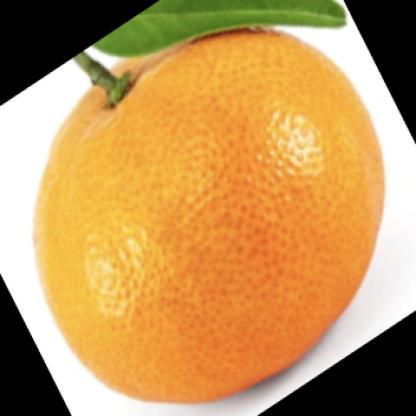fresh: (33, 22, 387, 404)
